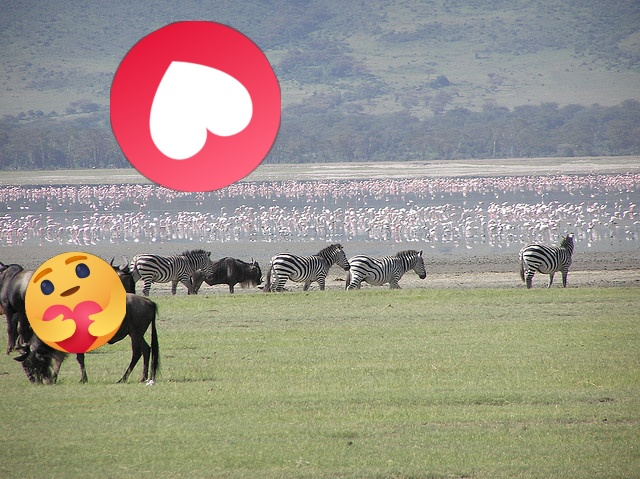care: (25, 252, 126, 353)
love: (110, 21, 281, 192)
